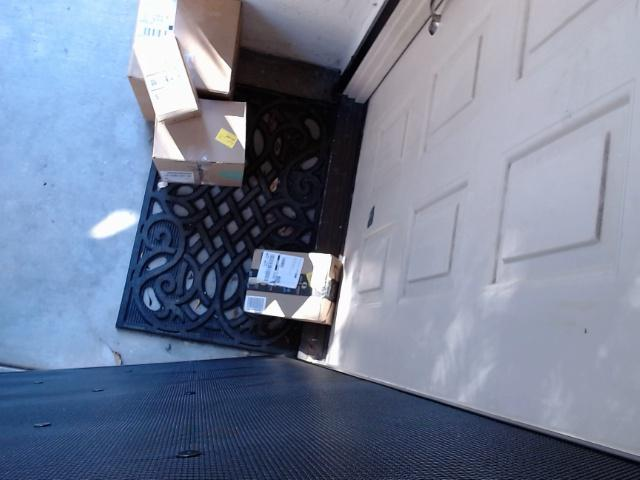box: (123, 3, 259, 109), (135, 91, 263, 185), (242, 242, 356, 328), (126, 31, 213, 130)
